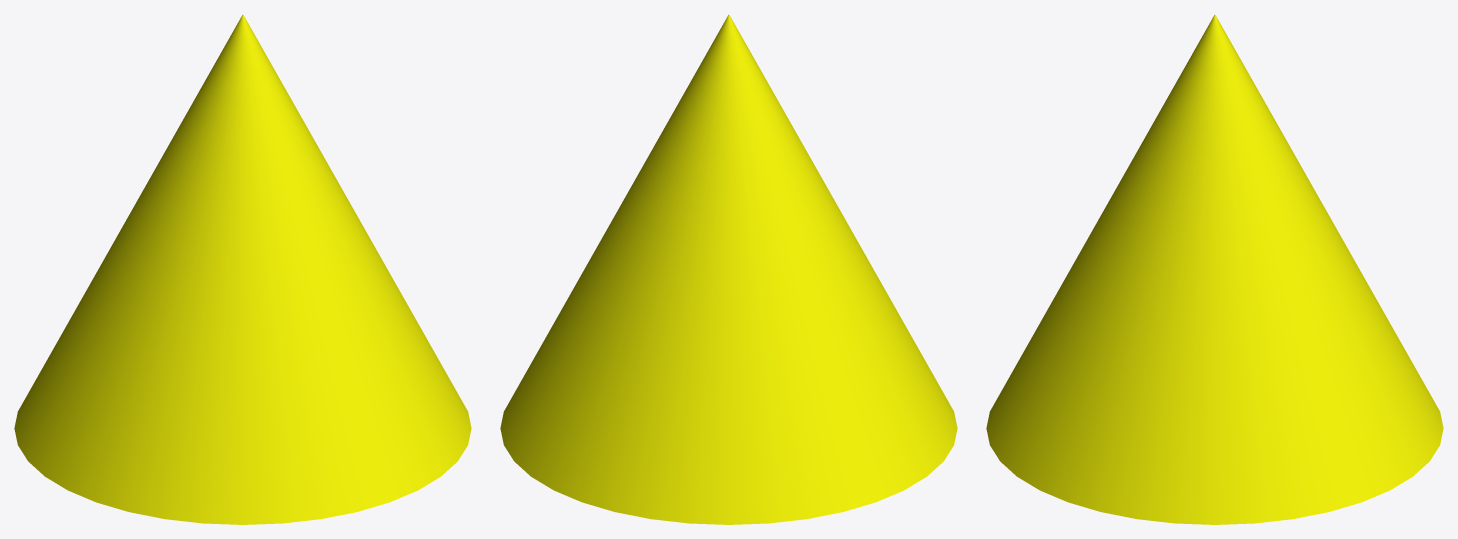
3 views of the same model, side by side, from view 1: azimuth 30°, elevation 25°; view 2: azimuth 150°, elevation 25°; view 3: azimuth 270°, elevation 25° (orthographic).
Size of the model in its own units: 1 by 1 by 1.
